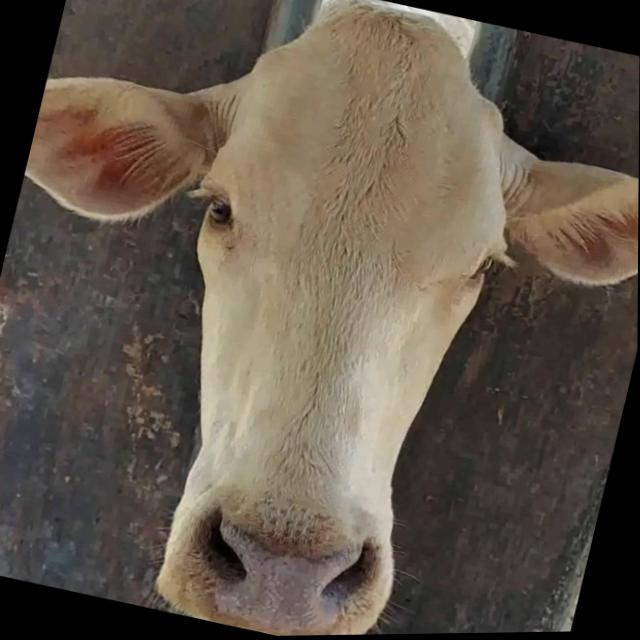cowFace: (115, 0, 544, 639)
